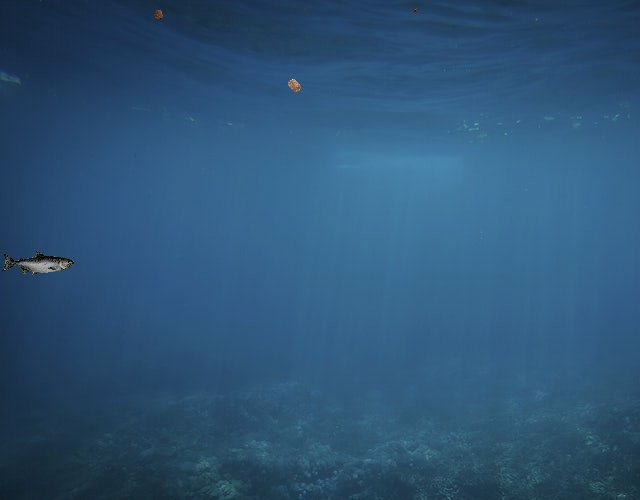Fish: (2, 251, 75, 277)
Pellet: (280, 71, 308, 99)
